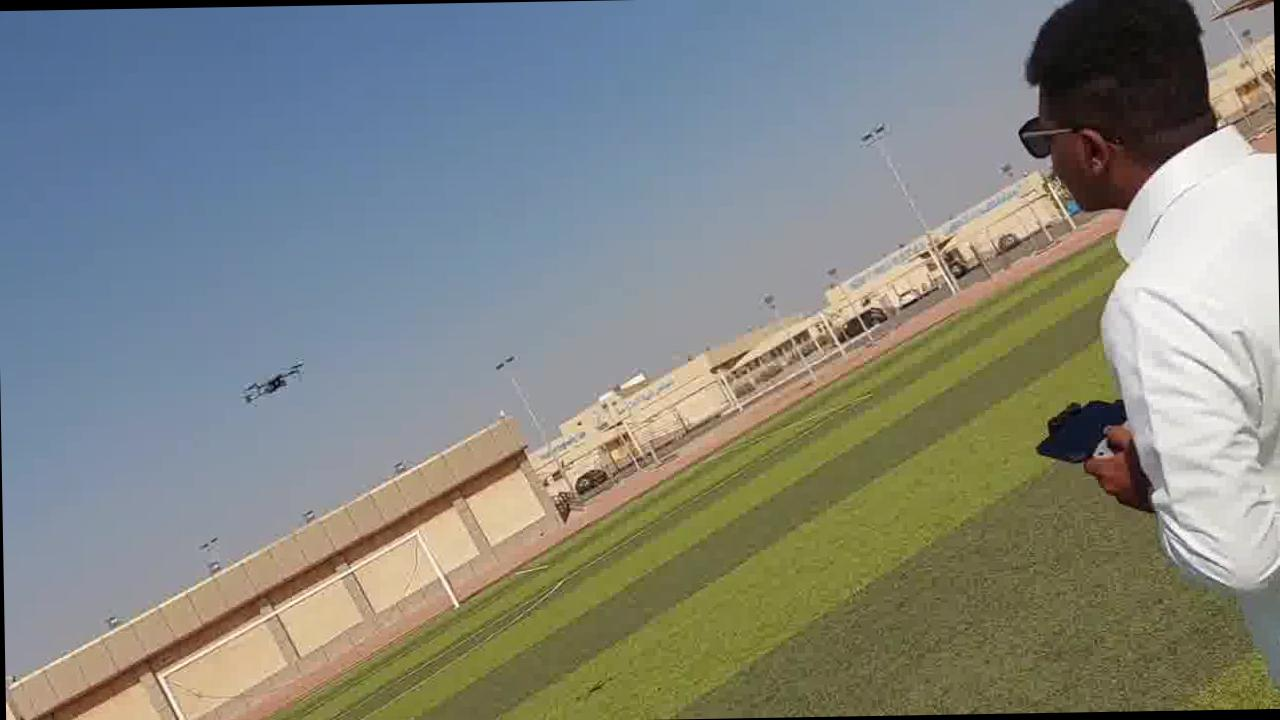drone: (237, 341, 303, 417)
